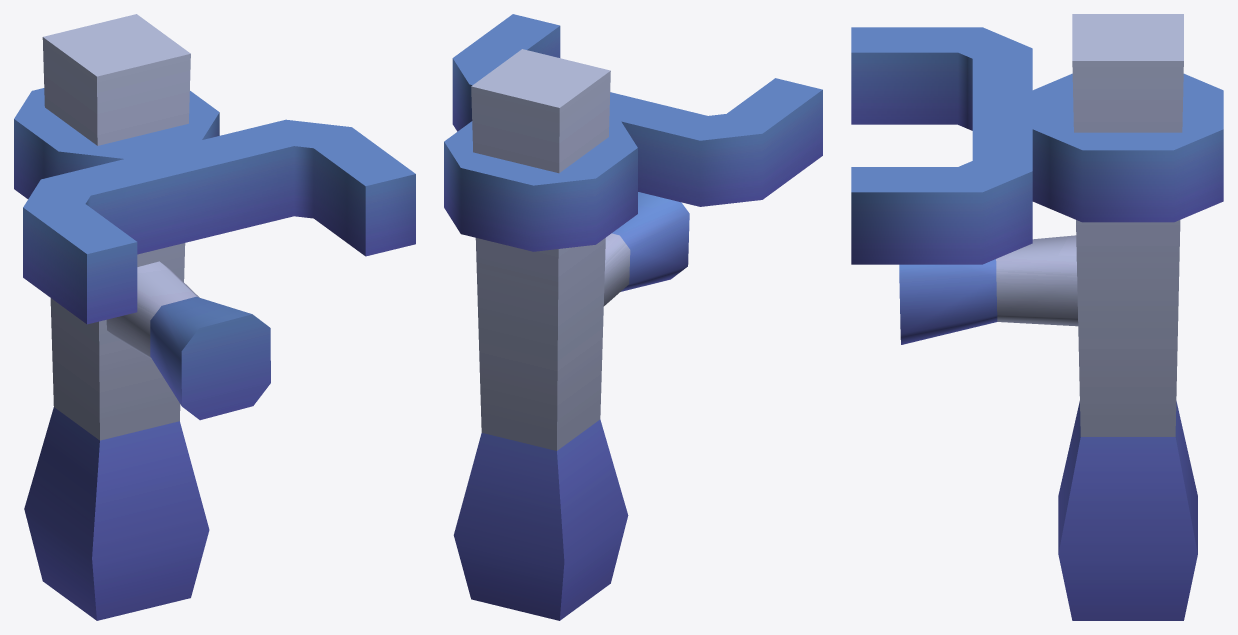
Rendered from krycka.glb.
The picture shows the model from 3 angles, left to right: view 1: azimuth 30°, elevation 25°; view 2: azimuth 150°, elevation 25°; view 3: azimuth 270°, elevation 25°; orthographic projection. The views are drawn at different scales.
Visible parts, largest first — view 1: aid-crutch, Group; view 2: Group, aid-crutch; view 3: aid-crutch, Group.
Part boxes in pixels (left/top/right/bottom): aid-crutch: left=14, top=88, right=415, bottom=420; Group: left=24, top=14, right=209, bottom=620; Group: left=453, top=49, right=628, bottom=620; aid-crutch: left=444, top=14, right=822, bottom=306; aid-crutch: left=851, top=27, right=1223, bottom=344; Group: left=1058, top=14, right=1197, bottom=620.
Size of the model in its own units: 0.196 by 0.31 by 0.187.
Materials: 1 (1 with a texture image).
